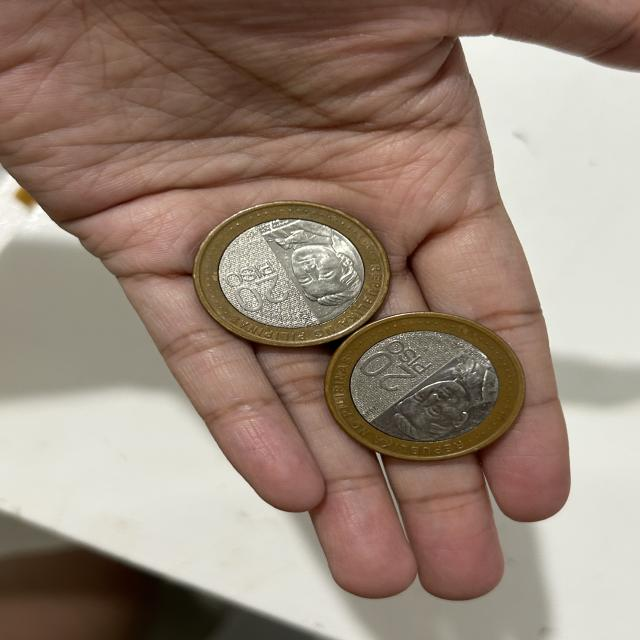20_New_Front: (354, 338, 432, 394), (220, 260, 296, 314)
